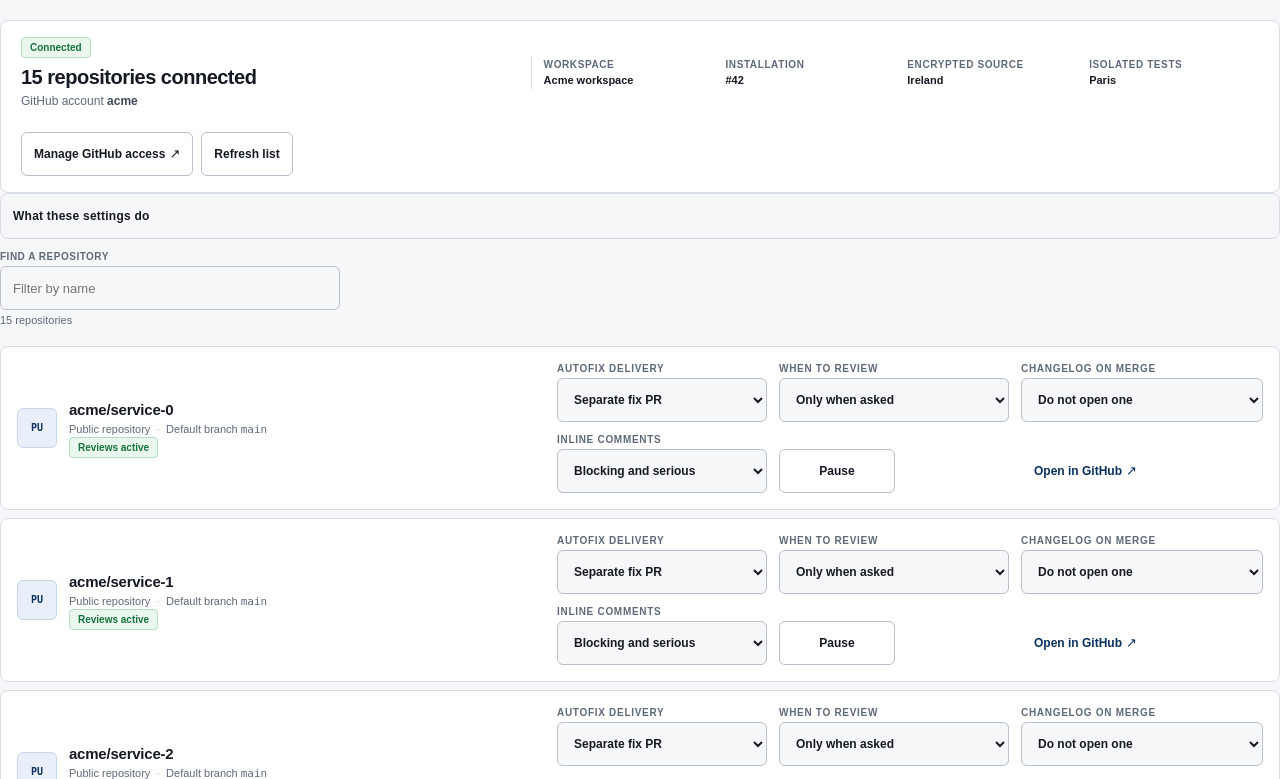
Test: a repository list long enough to be hard to read › offers a filter, and narrows the list to what was typed
Type "service-11" into the search field labelled "Find a repository" at (170, 288), box [0,266,340,310]
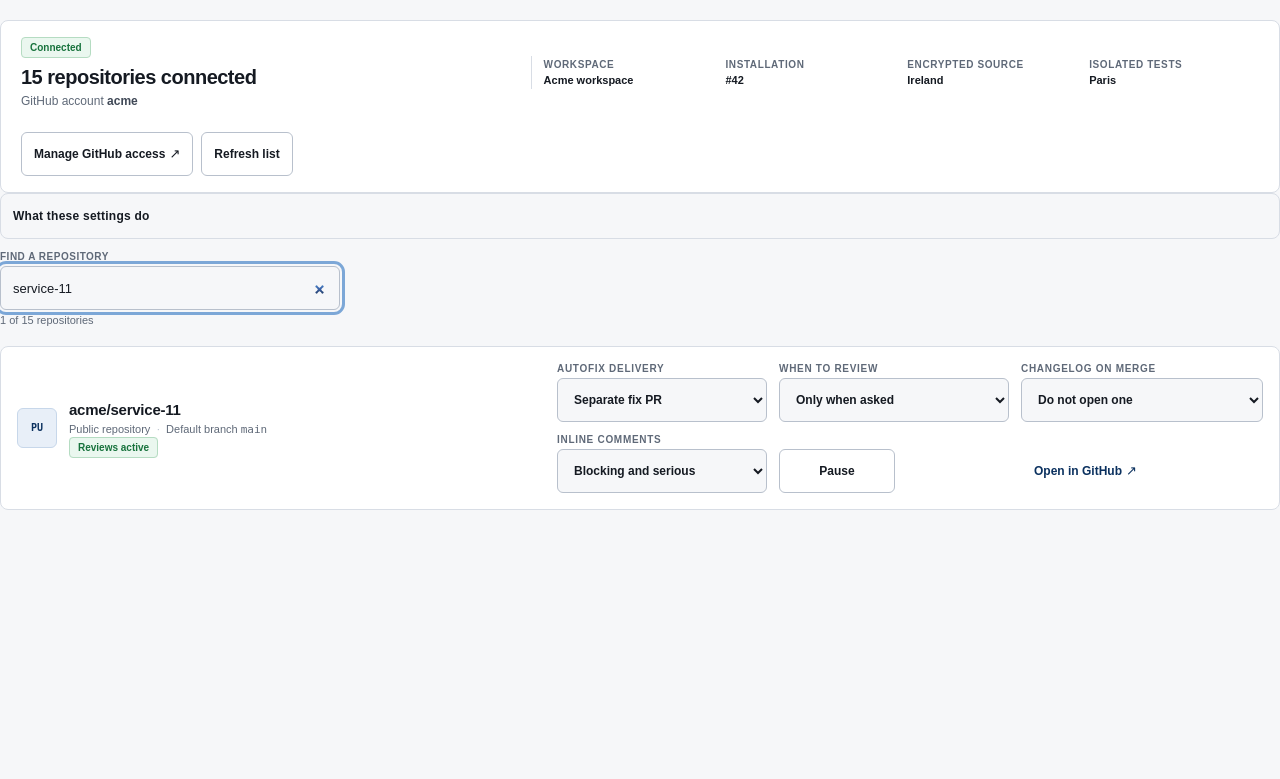
Check: the element named "Connected repositories" shows "service-11", box [69,400,181,418]
Check: the message shows "1 of 15", box [0,314,94,326]
